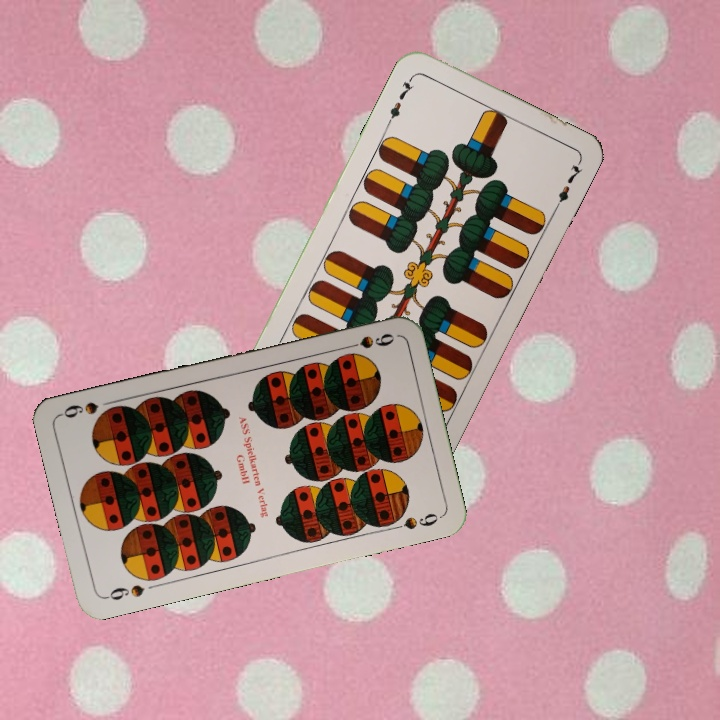E7: (383, 72, 416, 127)
S9: (339, 329, 397, 352), (101, 580, 147, 603)
